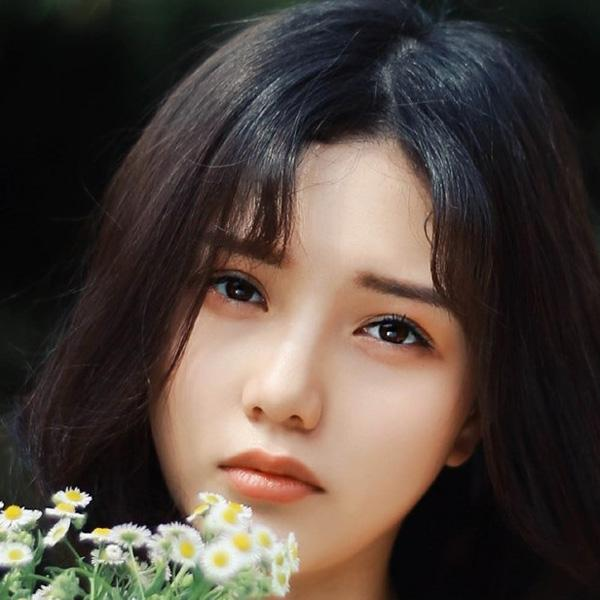Eyes: (343, 305, 439, 361), (189, 260, 273, 314)
